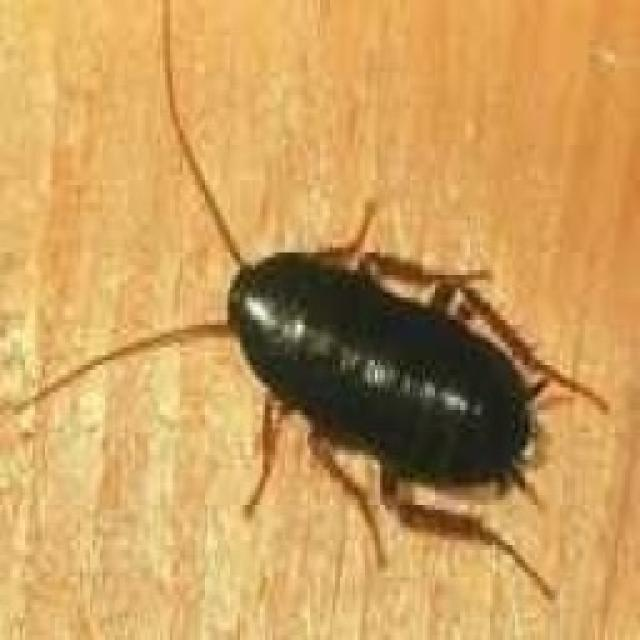cockroach: (153, 162, 569, 572)
